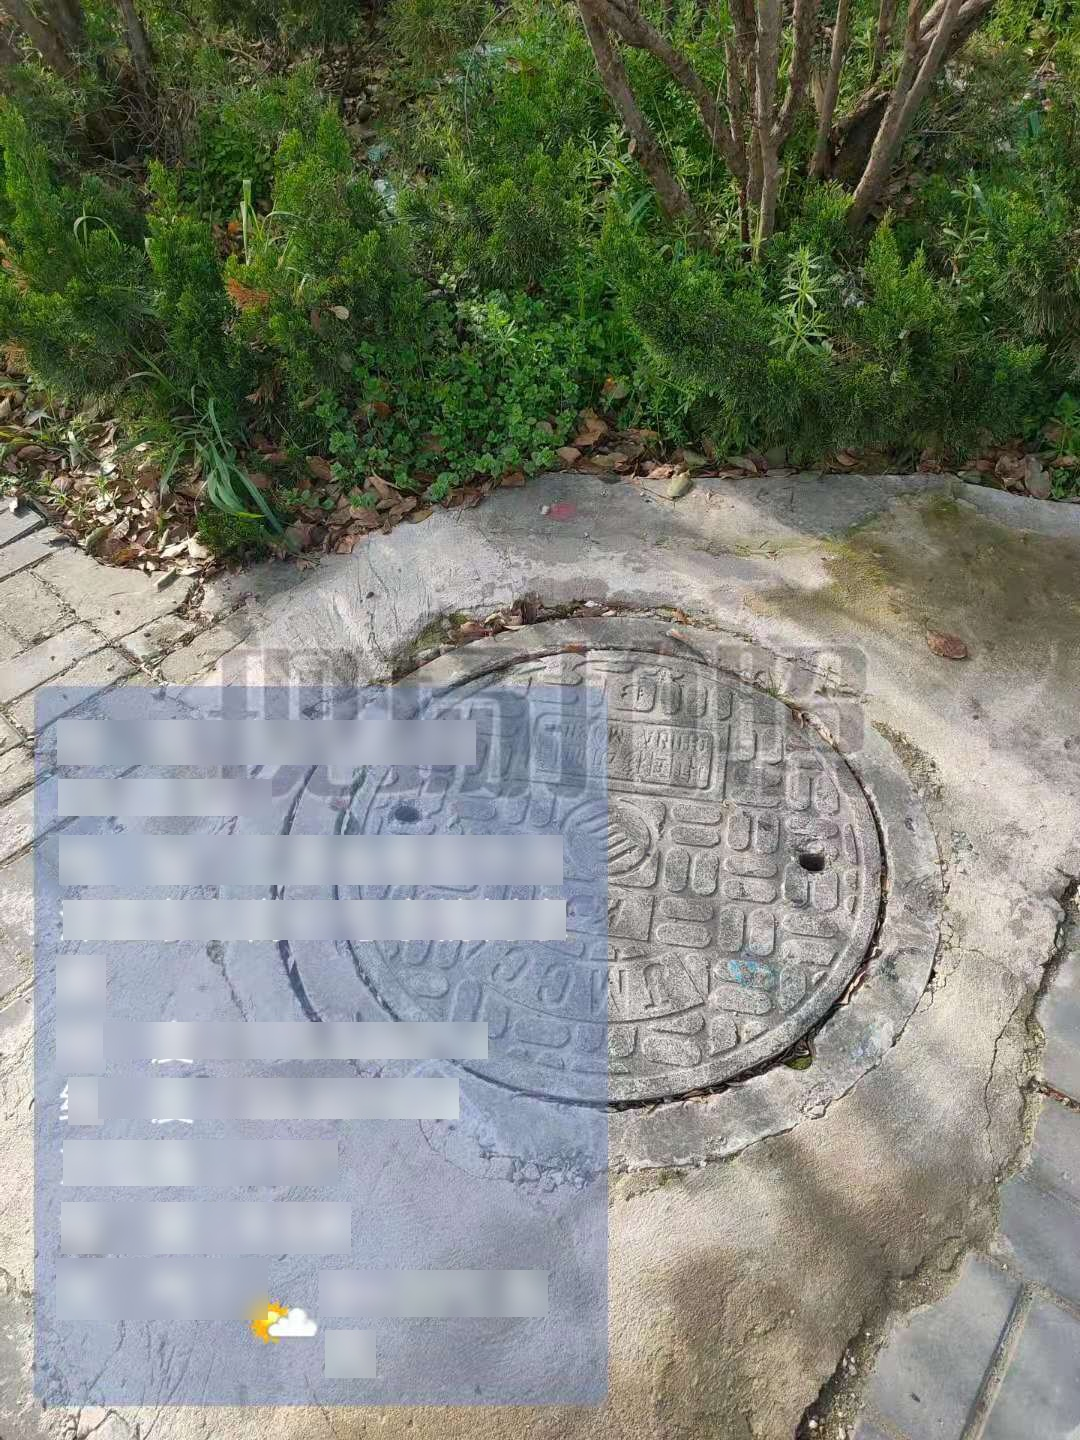good: (278, 619, 945, 1177)
